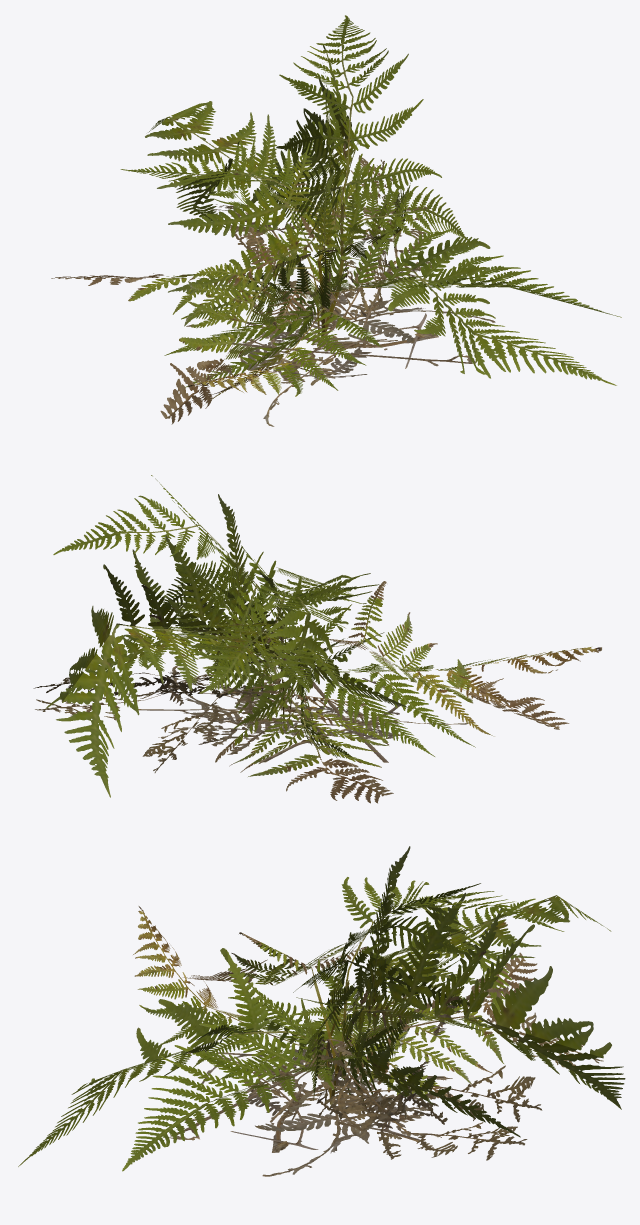
The model's file is fern.glb.
3 views of the same model, one above another, from view 1: azimuth 30°, elevation 25°; view 2: azimuth 150°, elevation 25°; view 3: azimuth 270°, elevation 25° (orthographic). The views are drawn at different scales.
Parts seen in each view (by area): view 1: fern_v0_lod0, fern_v2_lod0, fern_v1_lod0; view 2: fern_v2_lod0, fern_v1_lod0, fern_v0_lod0; view 3: fern_v2_lod0, fern_v1_lod0, fern_v0_lod0.
Boxes of the visible parts, x1,y1,x2,y2 form: fern_v0_lod0: (160,15,616,426); fern_v2_lod0: (51,101,621,405); fern_v1_lod0: (120,45,410,347); fern_v2_lod0: (35,551,601,803); fern_v1_lod0: (33,494,384,797); fern_v0_lod0: (53,475,569,753); fern_v2_lod0: (122,895,611,1176); fern_v1_lod0: (228,846,625,1137); fern_v0_lod0: (18,877,564,1166).
Size of what is drawn, in the model's own units: 1.57 by 0.9514 by 1.66.
Materials: 1 (1 with a texture image).
